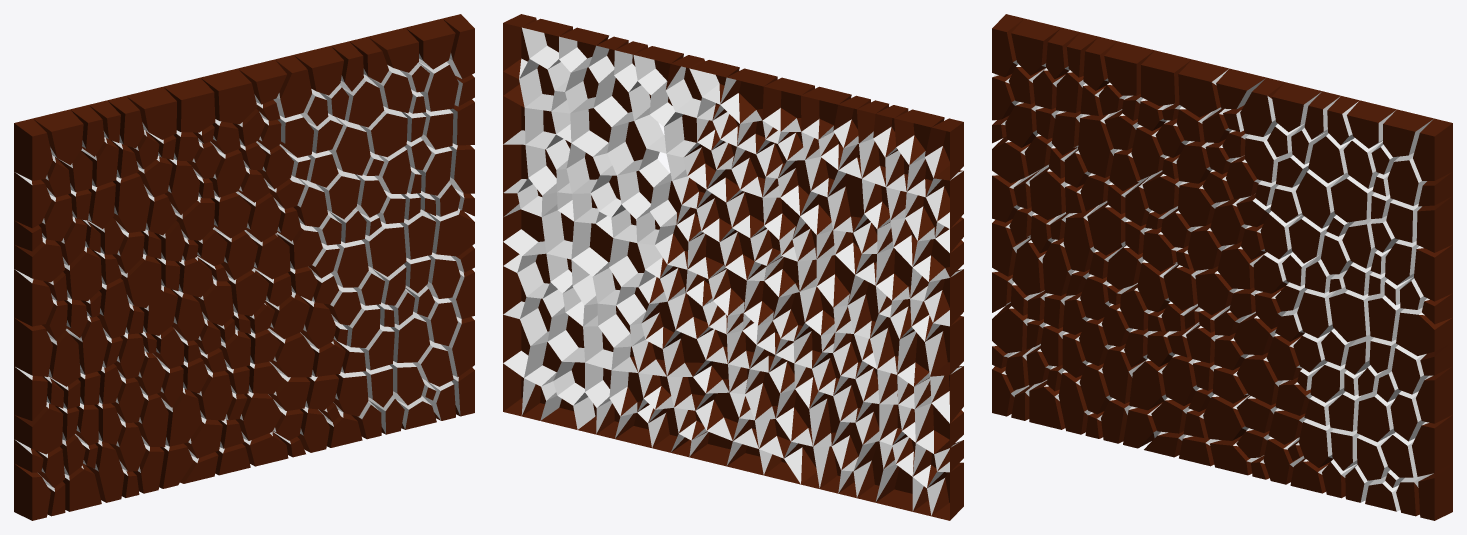
File: RockWall.fbx
3 views of the same model, side by side, from view 1: azimuth 30°, elevation 25°; view 2: azimuth 150°, elevation 25°; view 3: azimuth 330°, elevation 25° (orthographic).
Visible parts, largest first — view 1: Plane001; view 2: Plane001; view 3: Plane001.
Boxes of the visible parts, box(x1,y1,x2,y2) form: Plane001: box(14, 14, 474, 520); Plane001: box(503, 14, 963, 520); Plane001: box(992, 14, 1452, 520).
Size of the model in its own units: 2650 by 2204 by 165.
